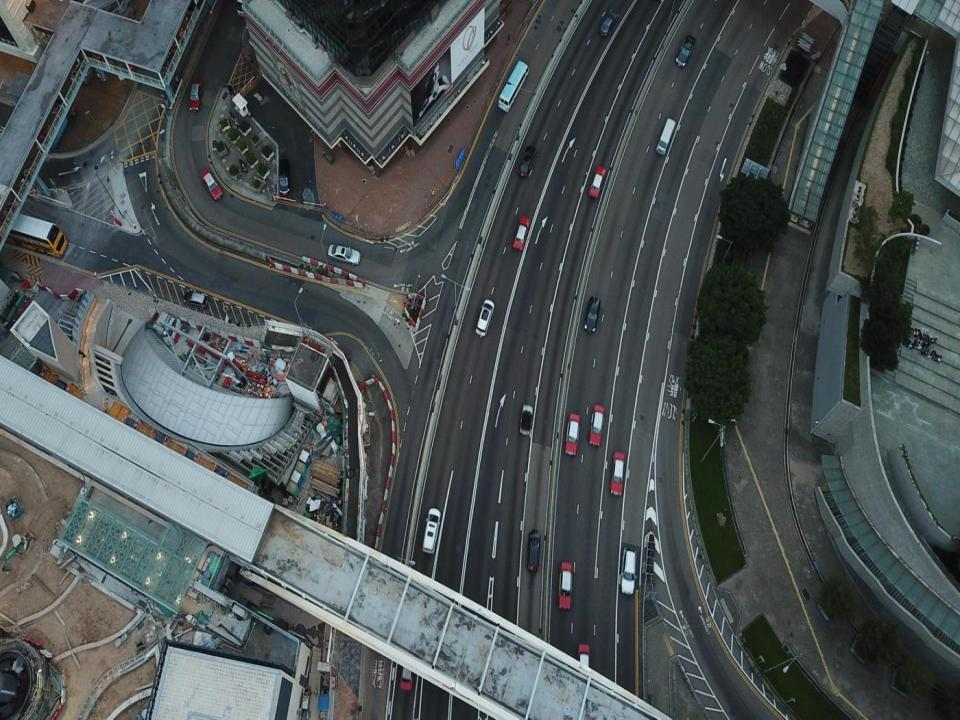bus: (0, 214, 67, 255), (498, 60, 528, 110)
car: (201, 167, 223, 201), (558, 560, 572, 612), (474, 298, 493, 336), (564, 413, 580, 457), (512, 213, 530, 252), (610, 449, 624, 499), (675, 36, 694, 70), (589, 401, 603, 447), (588, 165, 606, 200), (518, 144, 536, 179), (180, 289, 212, 307), (584, 295, 598, 335), (187, 75, 202, 110), (600, 7, 618, 36), (520, 402, 533, 439)
van: (422, 504, 441, 554), (656, 116, 676, 158), (326, 240, 361, 262), (524, 527, 540, 571), (622, 545, 635, 596), (576, 642, 590, 686), (400, 641, 413, 688), (277, 155, 289, 195)
